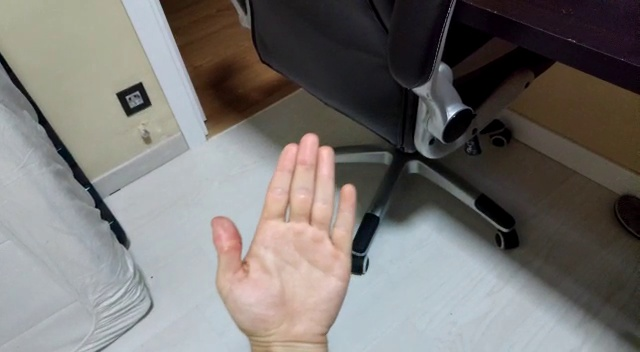Palm: (210, 127, 363, 344)
